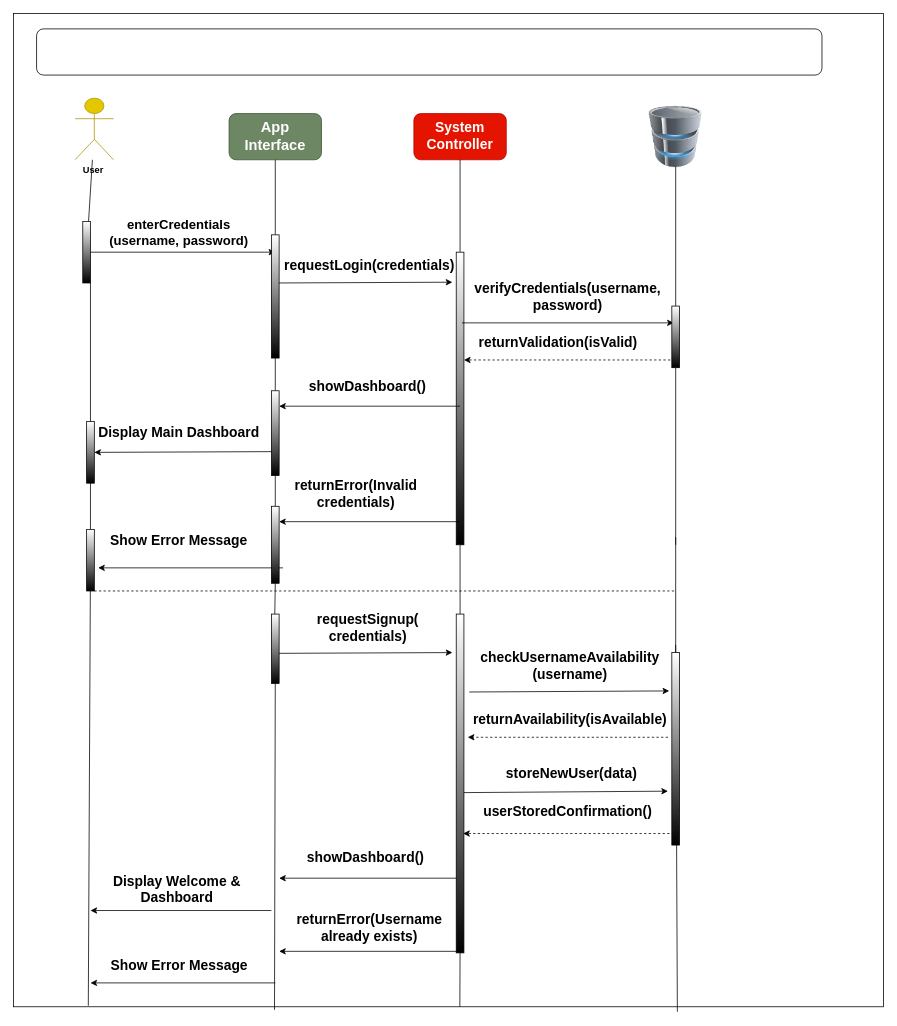
Some shapes in this 897 by 1026 pixel diagram are drawn without their labels. Here are the shapes that lost their labels. From the top down, the box of each, then its label:
(36, 28, 822, 75): Sequence Diagram For Authentication
(644, 105, 706, 167): Local Database
